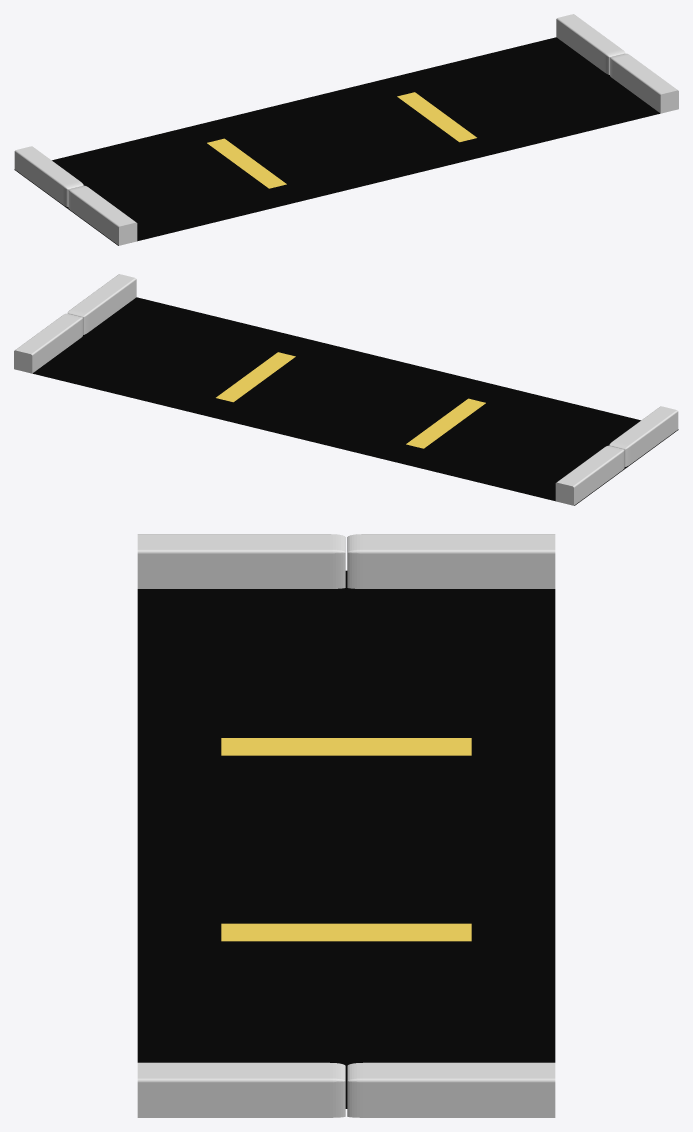
File: platform.glb
3 renders of one model, top to bottom at view 1: azimuth 30°, elevation 25°; view 2: azimuth 150°, elevation 25°; view 3: azimuth 270°, elevation 25°, orthographic. The views are drawn at different scales.
Visible parts, largest first — view 1: Куб.006, Куб.005, Куб.003, Куб.001, Куб.004, Куб.002; view 2: Куб.006, Куб.005, Куб.004, Куб.002, Куб.003, Куб.001; view 3: Куб.006, Куб.005, Куб.001, Куб.002, Куб.003, Куб.004.
Part boxes in pixels (x1,y1,x2,y2): Куб.006: (14,82,479,245); Куб.005: (204,37,660,195); Куб.003: (68,185,137,245); Куб.001: (610,53,678,113); Куб.004: (14,146,83,206); Куб.002: (556,14,625,74); Куб.006: (213,343,678,505); Куб.005: (32,297,488,459); Куб.004: (555,445,624,505); Куб.002: (14,313,82,373); Куб.003: (609,406,678,466); Куб.001: (67,274,136,334); Куб.006: (137,570,555,923); Куб.005: (137,756,555,1108); Куб.001: (137,1062,345,1117); Куб.002: (347,1062,555,1117); Куб.003: (137,534,345,588); Куб.004: (347,534,555,588).
Size of the model in its own units: 15.51 by 0.5057 by 5.
